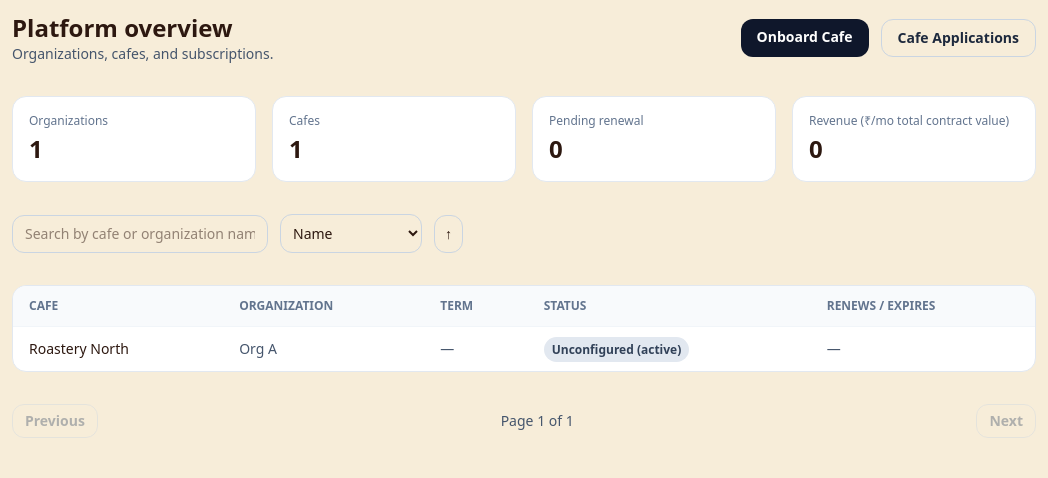
Test: AdminOverviewPage › shows "No cafes match your search." when a search query matches nothing
The image size is (1048, 478).
expect the text "Roastery North" is shown: met, box [13,326,223,371]
Type "nonexistent cafe xyz" into the field named "search cafes".
click(140, 234); type("nonexistent cafe xyz")  # box [12,214,268,252]
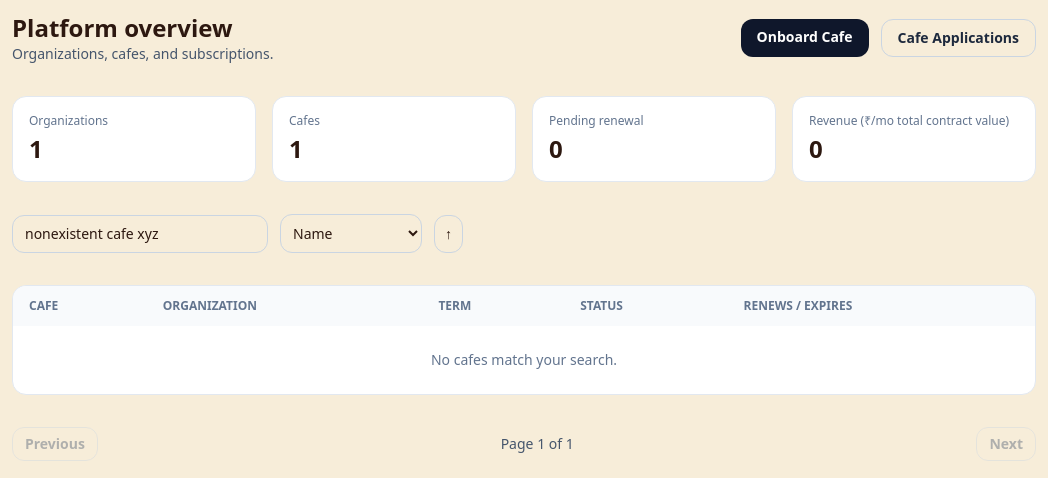
expect the text "Roastery North" is gone: met
expect the text "No cafes match your search." is shown: met, box [13,326,1035,394]
